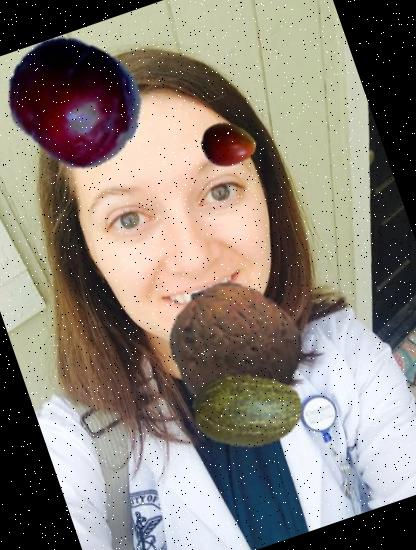Beetroot: (175, 300, 278, 403)
Mango: (194, 109, 264, 179)
Melon: (176, 332, 320, 477)
Plum: (0, 15, 161, 188)
Walnut: (149, 262, 319, 432)
